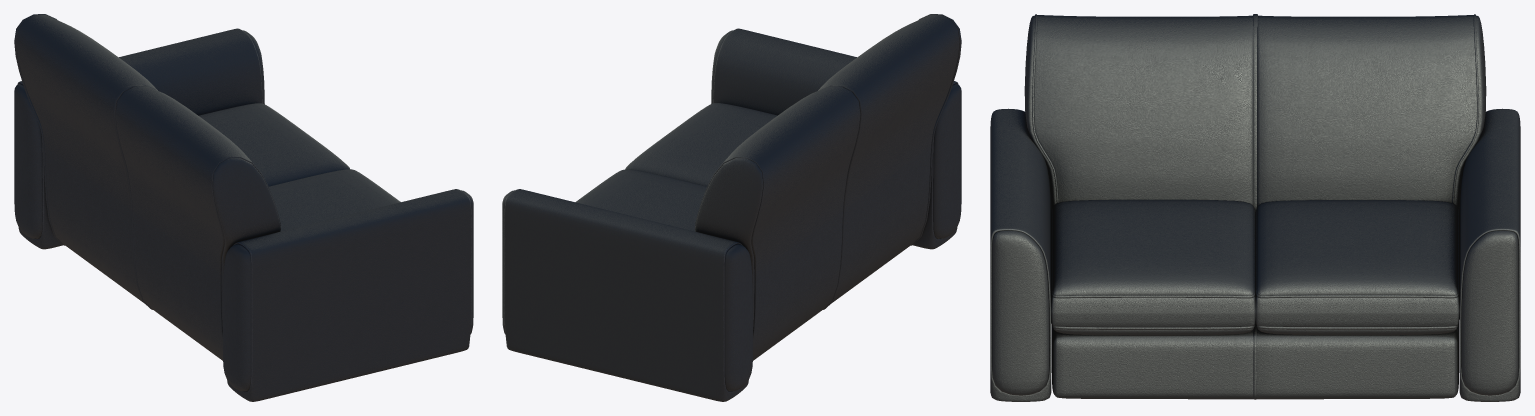
The model's file is black_leather_couch_2.glb.
3 views of the same model, side by side, from view 1: azimuth 30°, elevation 25°; view 2: azimuth 150°, elevation 25°; view 3: azimuth 270°, elevation 25° (orthographic). The views are drawn at different scales.
Parts seen in each view (by area): view 1: couch_uv_modded_2; view 2: couch_uv_modded_2; view 3: couch_uv_modded_2.
Part boxes in pixels (x1=…): couch_uv_modded_2: x1=14, y1=14, x2=473, y2=401; couch_uv_modded_2: x1=502, y1=14, x2=961, y2=401; couch_uv_modded_2: x1=990, y1=14, x2=1520, y2=401.
Size of the model in its own units: 8.6 by 7.79 by 14.14.
7 materials, 7 textured.
